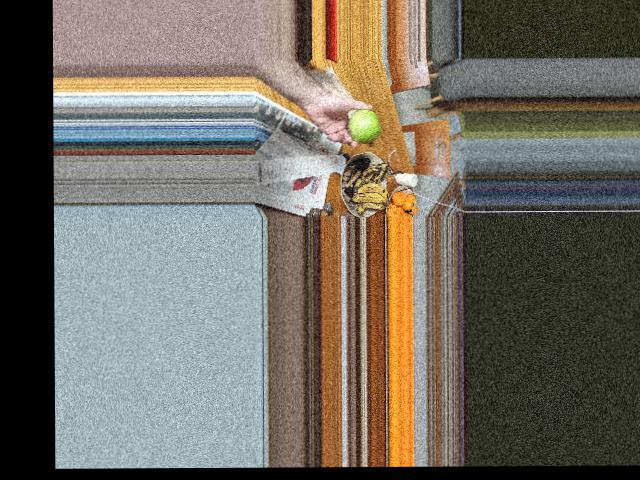apple: (347, 110, 386, 142)
